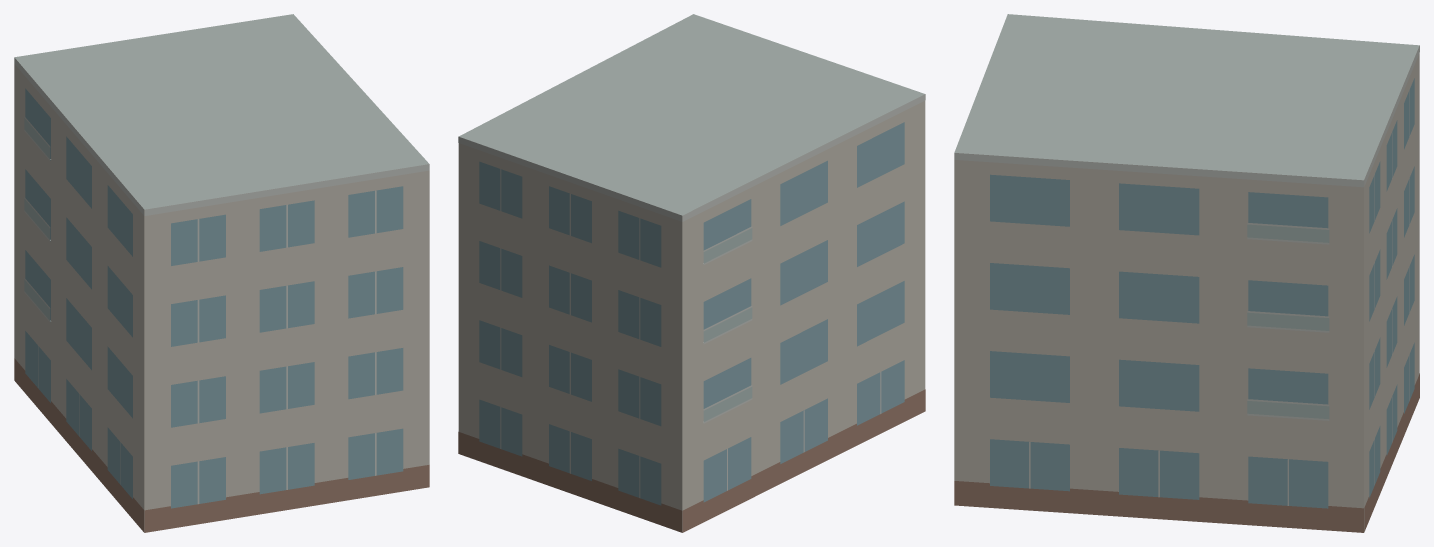
File: survey-upis-32618710.glb
The picture shows the model from 3 angles, left to right: view 1: azimuth 30°, elevation 25°; view 2: azimuth 150°, elevation 25°; view 3: azimuth 270°, elevation 25°; orthographic projection. The views are drawn at different scales.
Parts seen in each view (by area): view 1: survey-upis-32618710.tmp; view 2: survey-upis-32618710.tmp; view 3: survey-upis-32618710.tmp.
Boxes of the visible parts, x1,y1,x2,y2 form: survey-upis-32618710.tmp: (14,14,429,532); survey-upis-32618710.tmp: (458,14,925,532); survey-upis-32618710.tmp: (954,14,1419,532).
Size of the model in its own units: 12.35 by 12.2 by 14.61.
